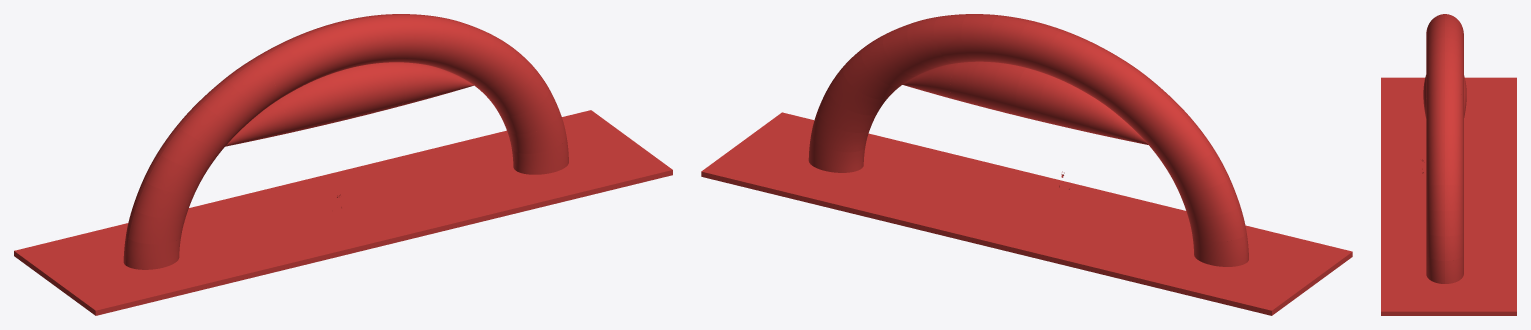
File: arco.obj
3 views of the same model, side by side, from view 1: azimuth 30°, elevation 25°; view 2: azimuth 150°, elevation 25°; view 3: azimuth 270°, elevation 25° (orthographic). The views are drawn at different scales.
Parts seen in each view (by area): view 1: Arco_20x10; view 2: Arco_20x10; view 3: Arco_20x10.
Part boxes in pixels (x1,y1,x2,y2): Arco_20x10: (14, 14, 672, 315); Arco_20x10: (701, 14, 1352, 315); Arco_20x10: (1381, 14, 1516, 315).
Bounding box in the file's own units: 199 × 64.06 × 48.81.
